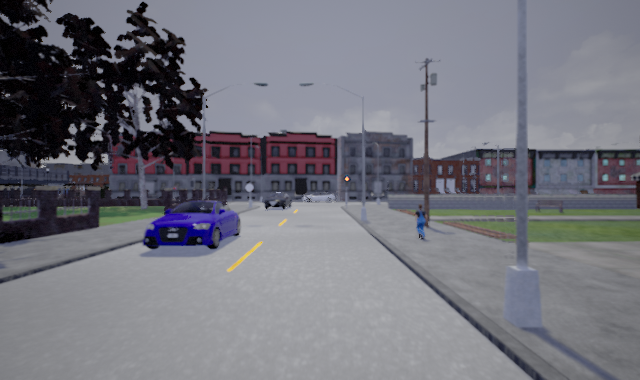pedestrian: (411, 202, 430, 242)
vehicle: (142, 202, 241, 249), (264, 191, 293, 210), (302, 191, 336, 203)
